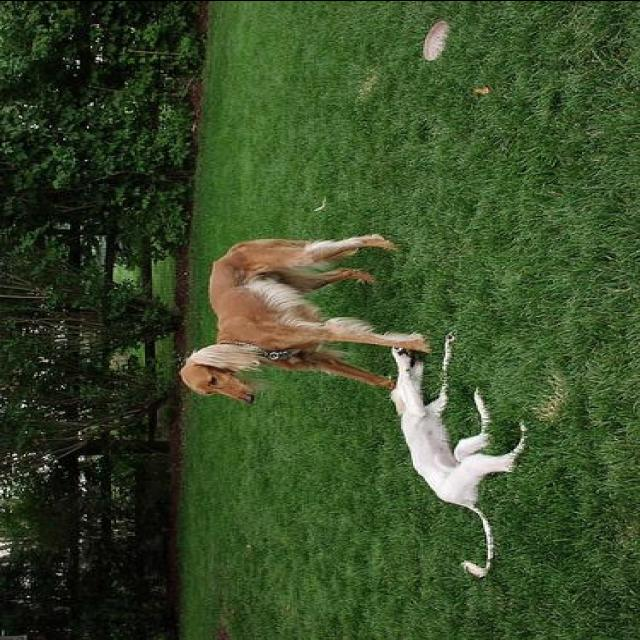saluki: (177, 232, 425, 408), (386, 330, 530, 576)
